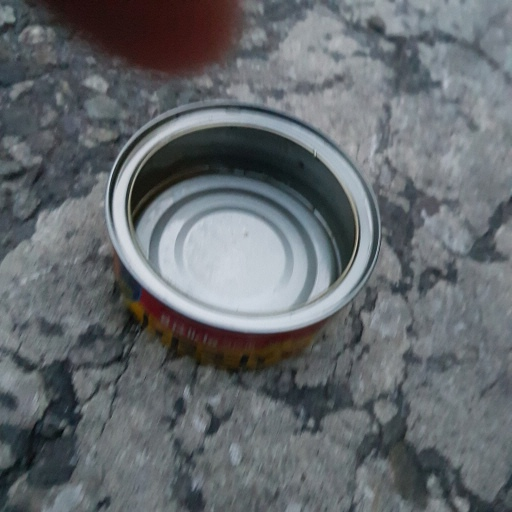Metal_1: (103, 101, 381, 362)
